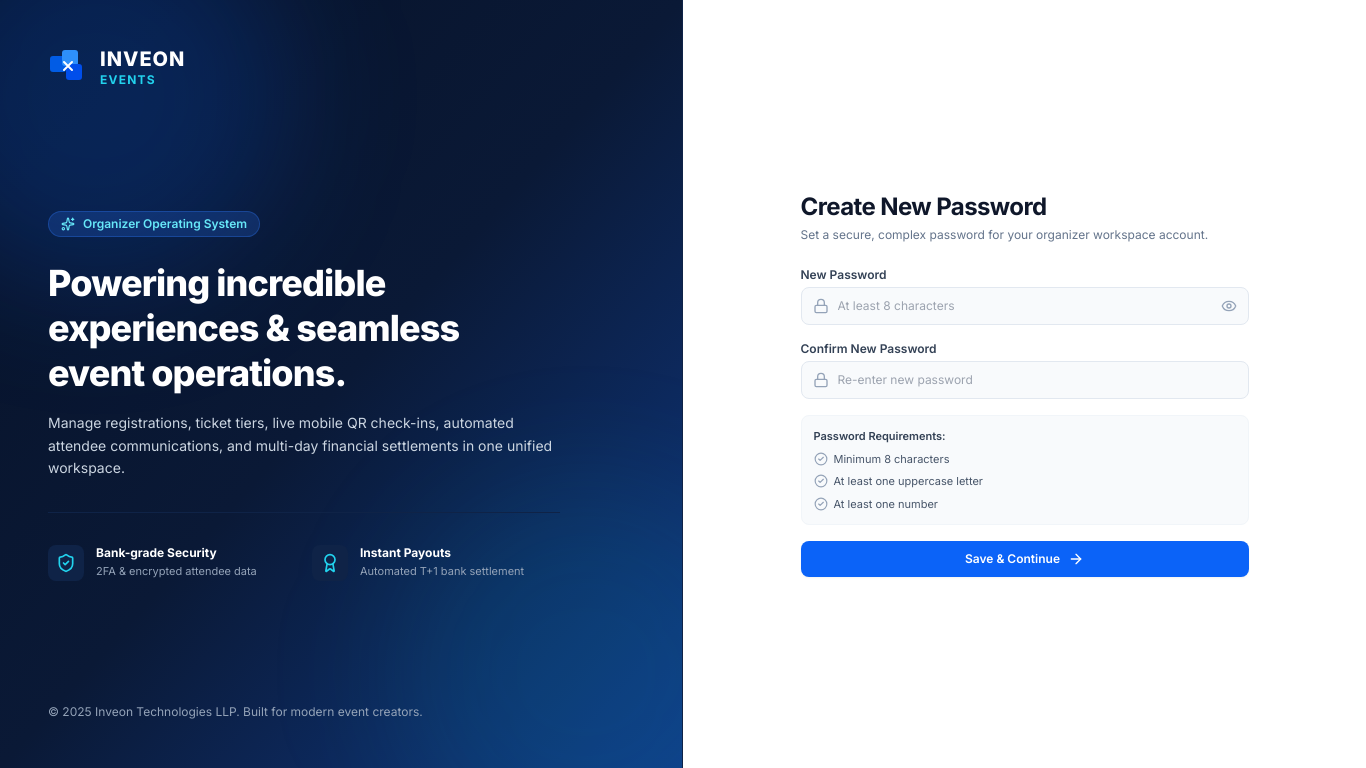
organizer portal: real forgot-password flow › create-new-password submits the real reset token and new password, then lands on login — not the identity/KYC chain
Type "BrandNewPassword456" into the password field labelled "New Password" at (1024, 306), box x1=800 y1=287 x2=1248 y2=325
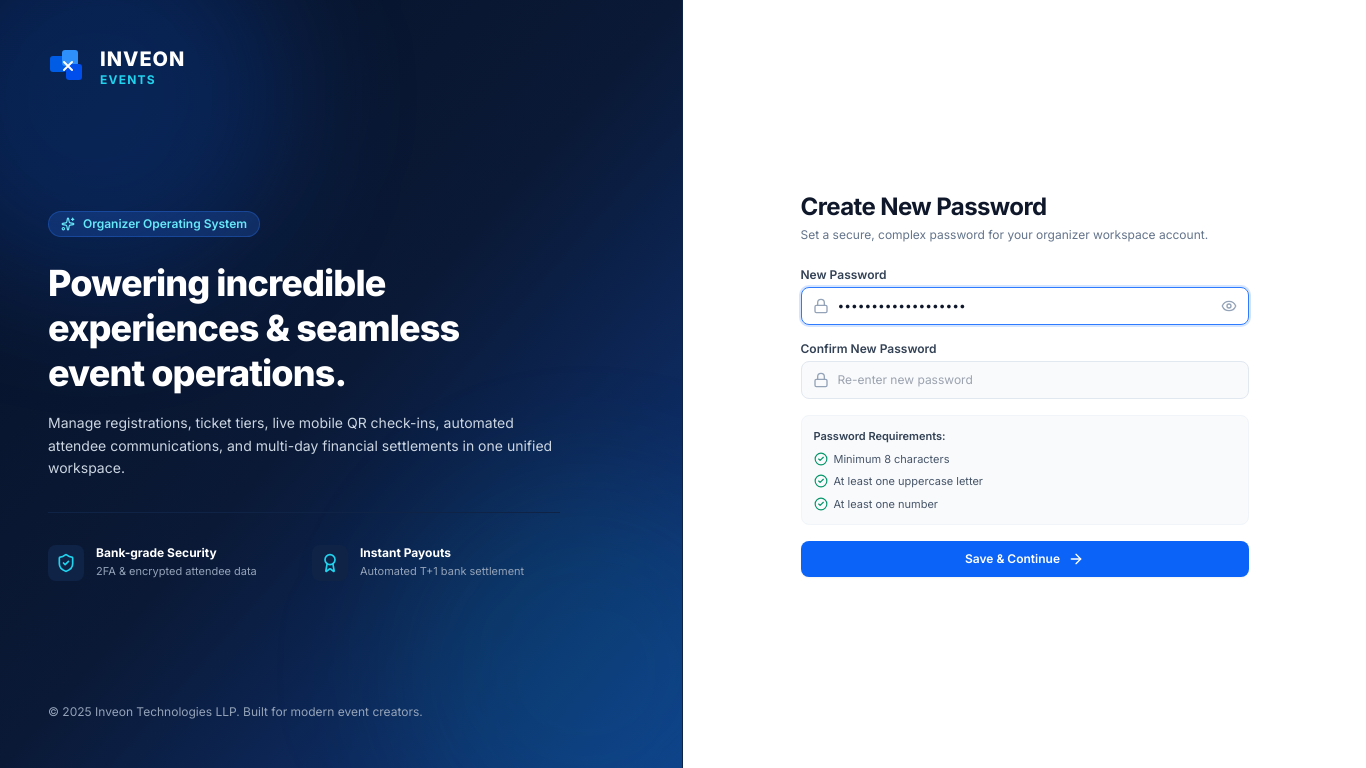
Type "BrandNewPassword456" into the password field labelled "Confirm New Password" at (1024, 380), box x1=800 y1=361 x2=1248 y2=399
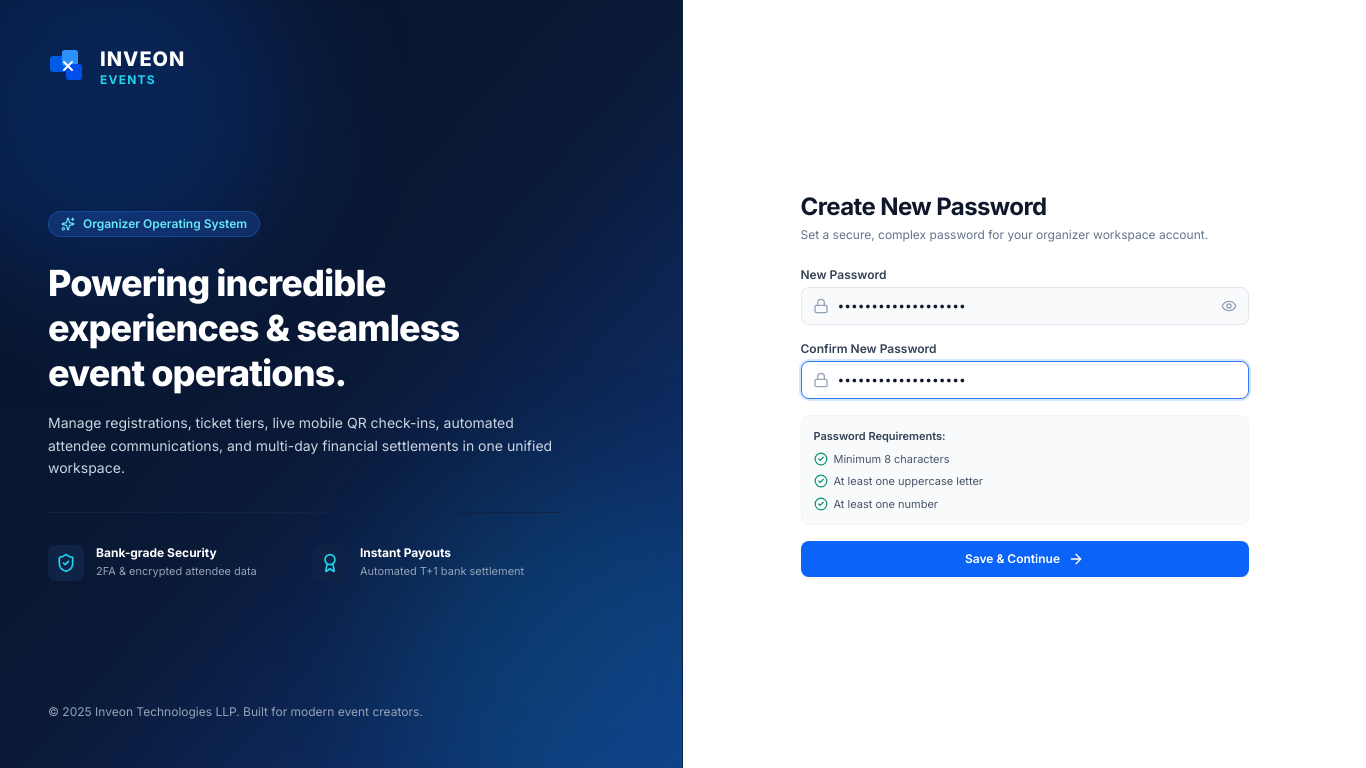
Click the button "Save & Continue" at (1024, 559), box x1=800 y1=541 x2=1248 y2=577
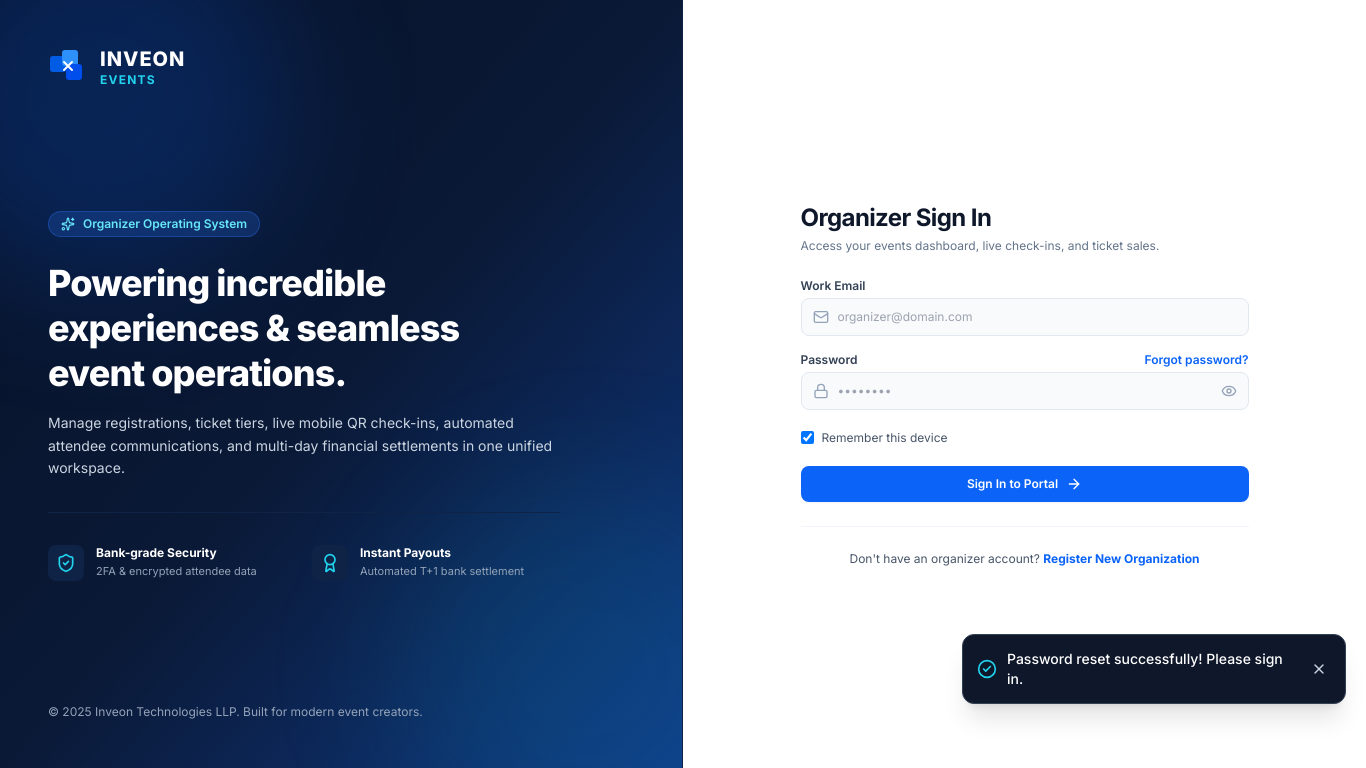
Expected: the heading "Organizer Sign In" is shown, x1=800 y1=202 x2=991 y2=232
